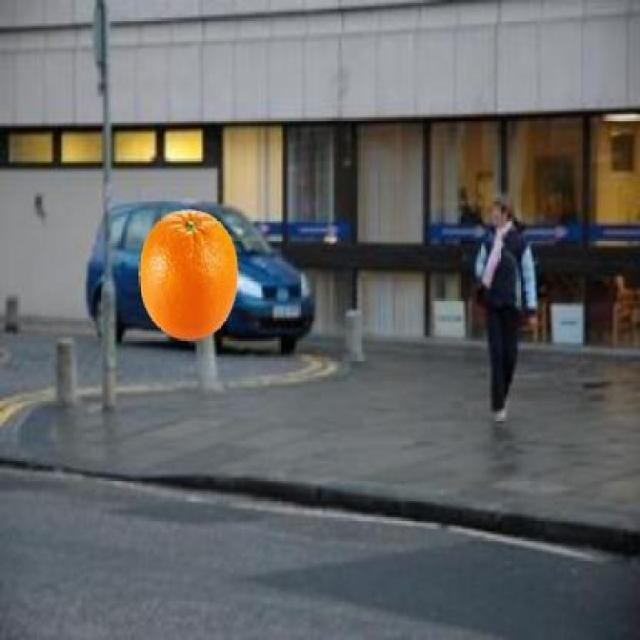Orange: (136, 208, 238, 342)
